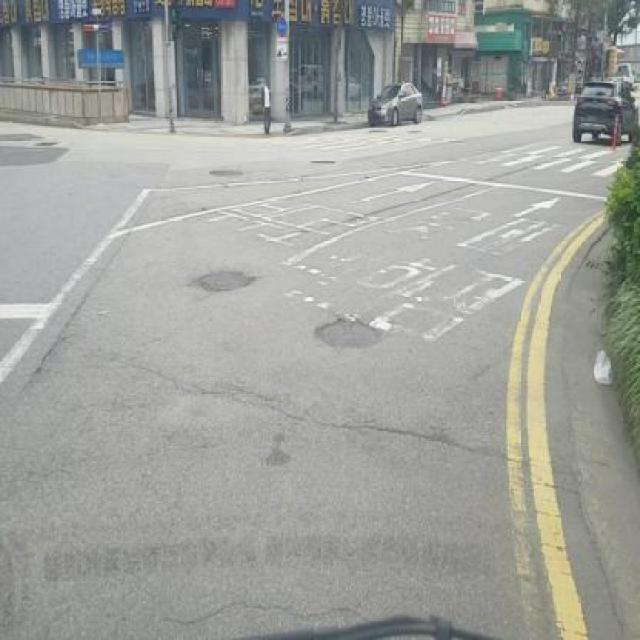Manhole: (312, 319, 383, 352), (196, 270, 253, 292), (204, 168, 250, 180), (584, 253, 605, 273), (36, 140, 58, 150), (309, 160, 336, 163)
